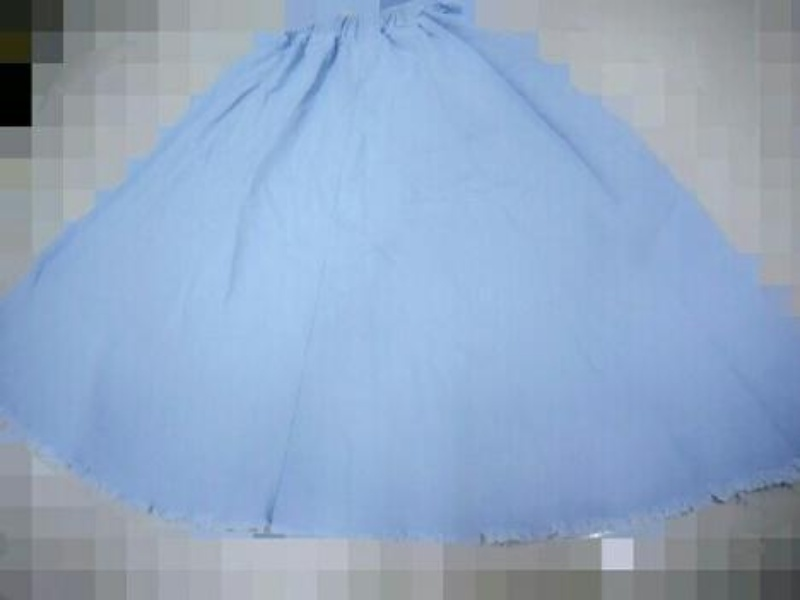skirt: (2, 0, 798, 545)
